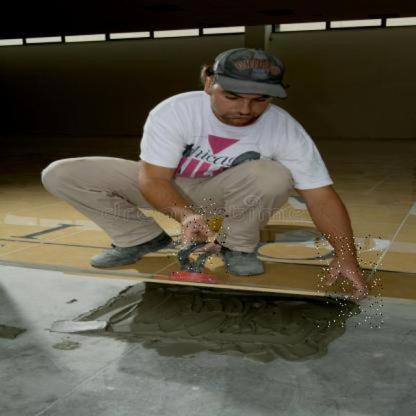bota: (87, 222, 176, 271), (217, 240, 267, 279)
